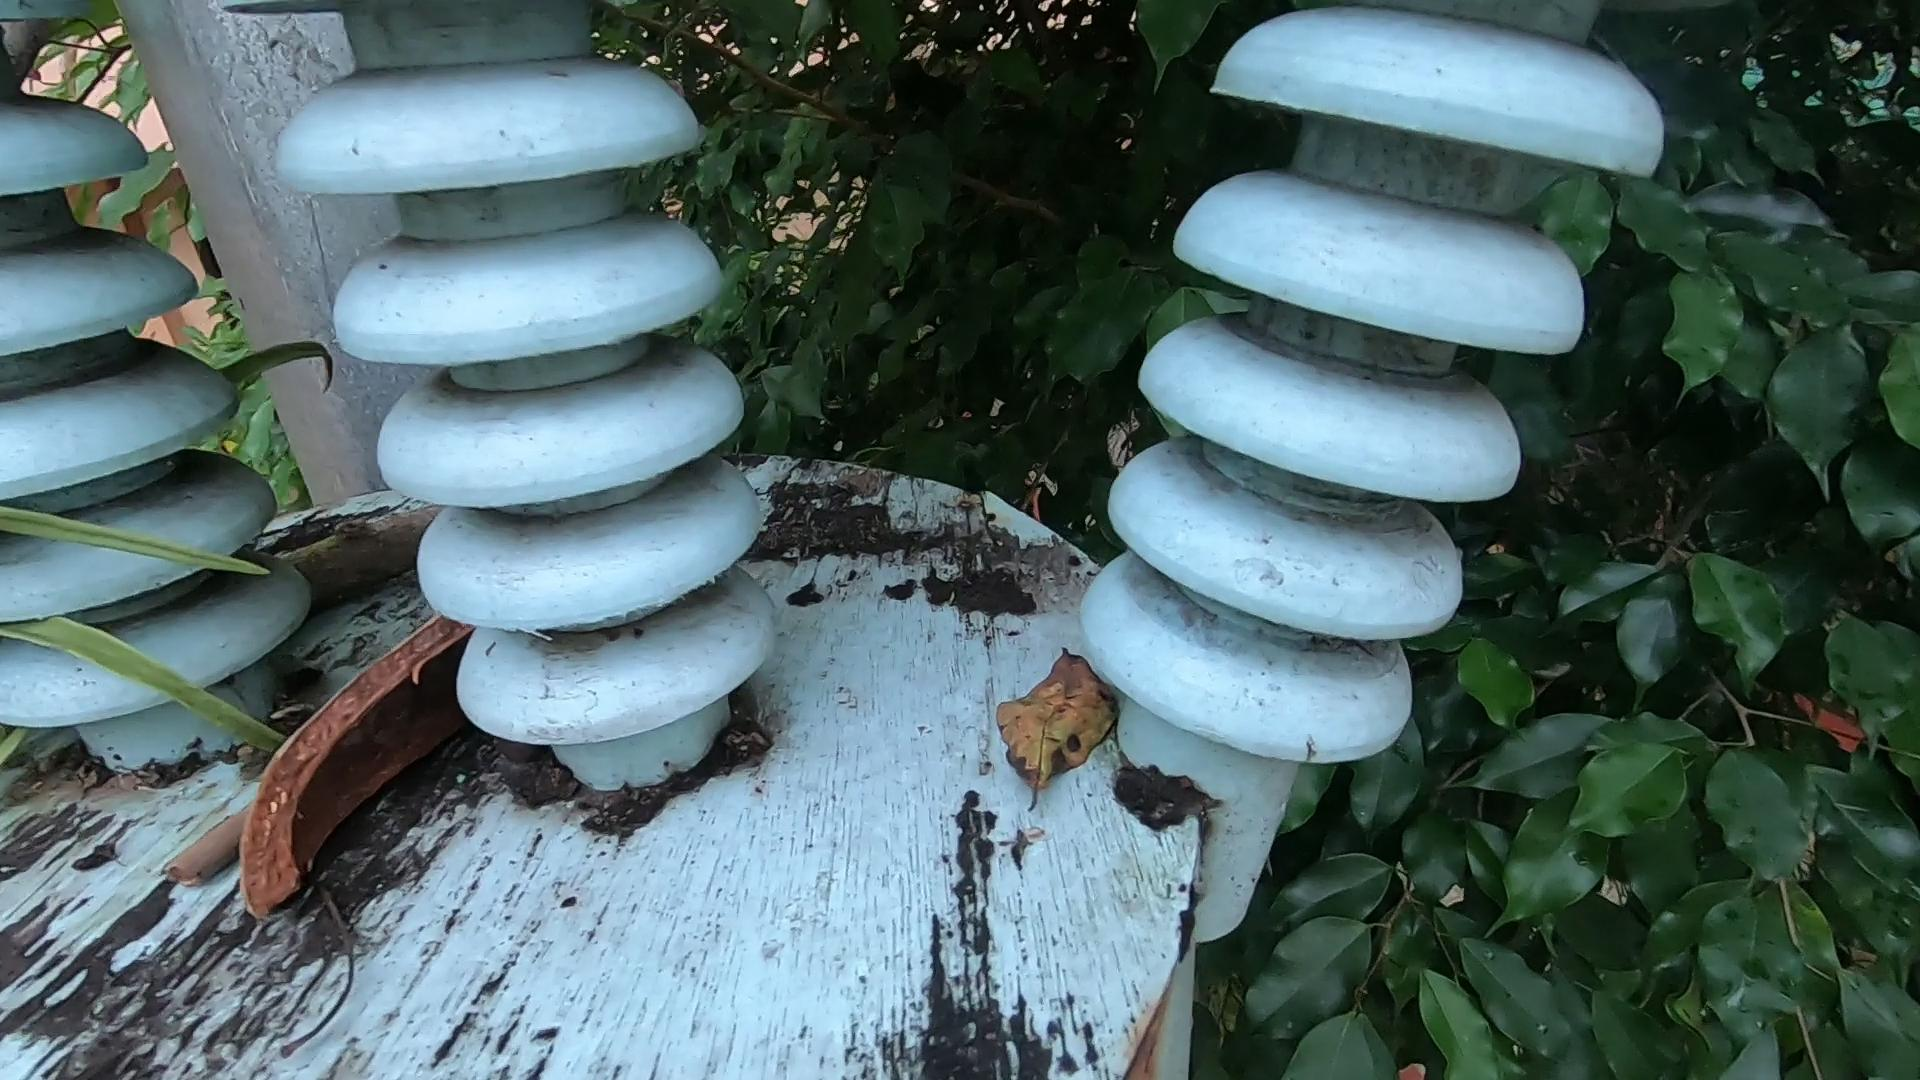branch with leaves: (216, 444, 504, 647)
leaf: (1000, 596, 1131, 811)
mahogany fruit: (206, 524, 501, 980)
tree branch: (123, 742, 393, 909)
